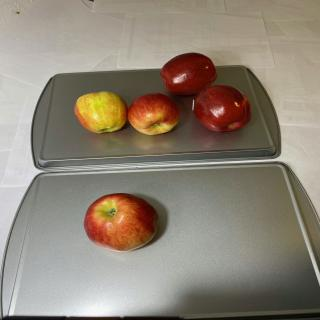Apple: (84, 193, 158, 252), (192, 85, 252, 132), (160, 52, 217, 96), (127, 92, 180, 136), (74, 91, 128, 134)
